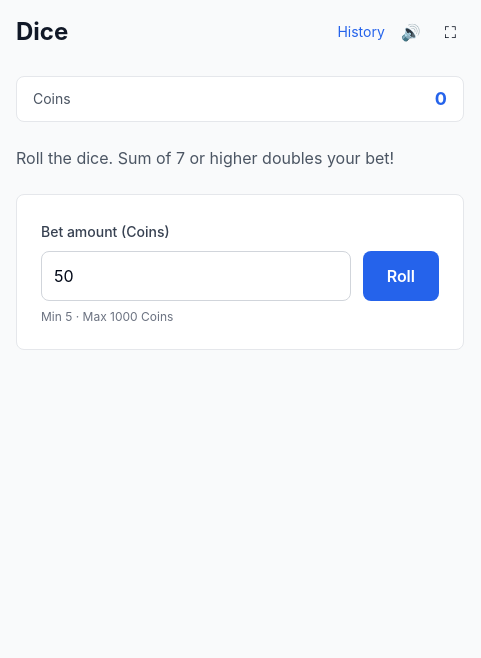
DiceGamePage › shows the replay notice from the real API response shape (data.isReplay)
Click the button "Roll".
click(401, 276)  # box [363, 251, 439, 301]
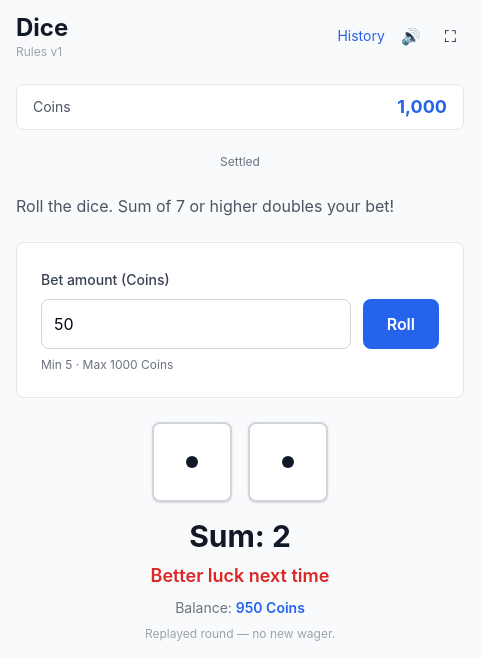
Result: the text "Replayed round — no new wager." is shown at [145, 626, 335, 641]
